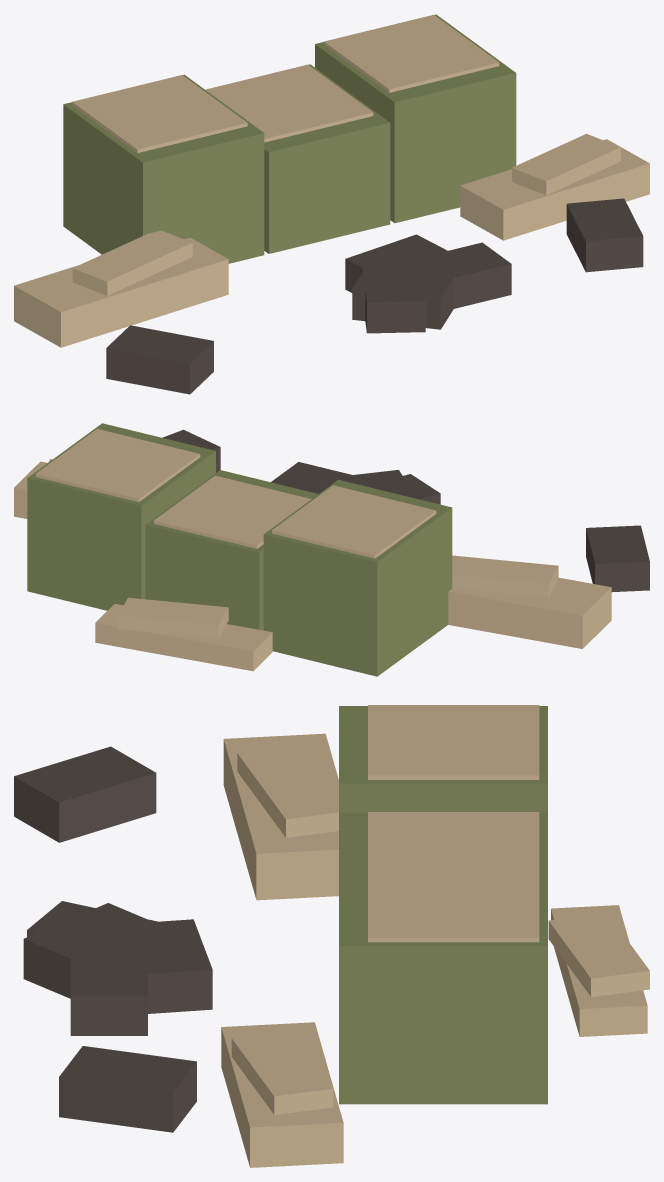
File: SM_HescoCorto3_v2_Escalonado_e2_MuyDanado_LOD1.fbx
3 views of the same model, one above another, from view 1: azimuth 30°, elevation 25°; view 2: azimuth 150°, elevation 25°; view 3: azimuth 270°, elevation 25° (orthographic). The views are drawn at different scales.
Parts seen in each view (by area): view 1: SM_hesco_piezas_v90_LOD1; view 2: SM_hesco_piezas_v90_LOD1; view 3: SM_hesco_piezas_v90_LOD1.
Boxes of the visible parts, x1=… form: SM_hesco_piezas_v90_LOD1: x1=14, y1=14, x2=649, y2=394; SM_hesco_piezas_v90_LOD1: x1=14, y1=423, x2=649, y2=676; SM_hesco_piezas_v90_LOD1: x1=14, y1=705, x2=649, y2=1167.
Bounding box in the file's own units: 5.36 × 1.06 × 3.71.
